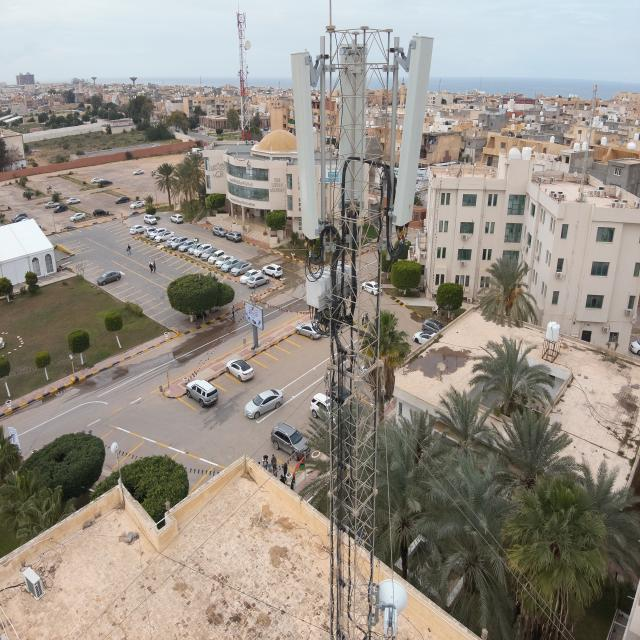antenna: (396, 25, 436, 233), (290, 52, 330, 241), (338, 41, 372, 218)
lighnig-rad: (326, 0, 335, 31)
microware-dish: (375, 570, 411, 640)
radio-unit: (302, 263, 366, 310)
